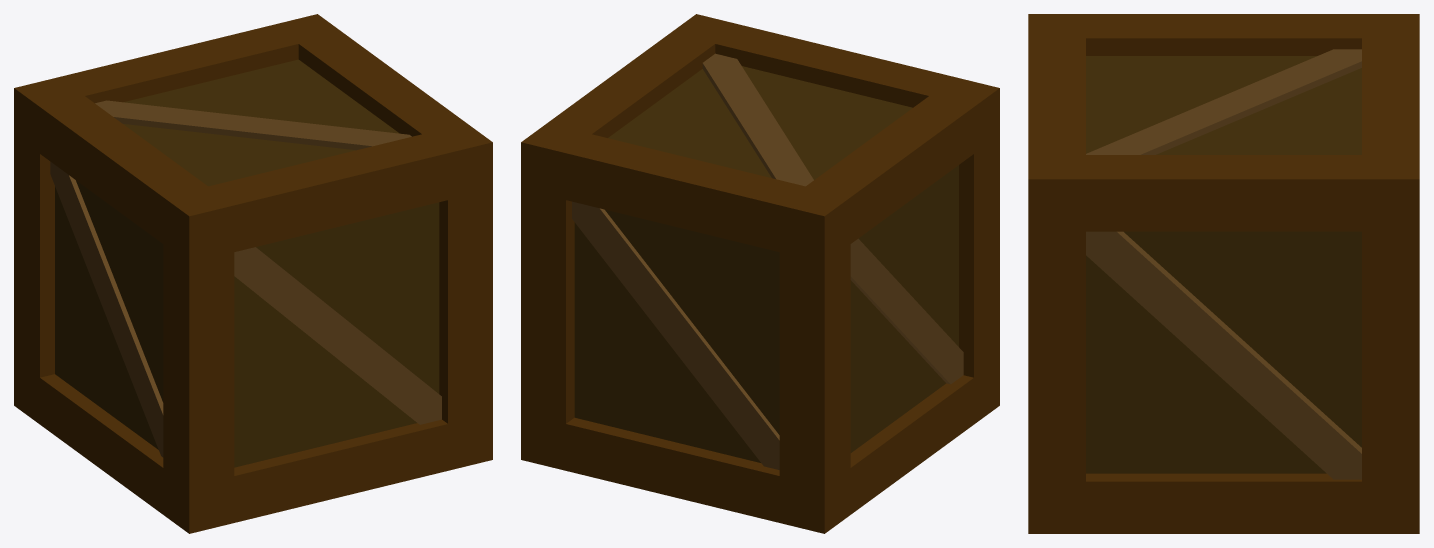
The model's file is 3D_WoodenCrate.FBX.
3 renders of one model, left to right at view 1: azimuth 30°, elevation 25°; view 2: azimuth 150°, elevation 25°; view 3: azimuth 270°, elevation 25°, orthographic. The views are drawn at different scales.
Visible parts, largest first — view 1: 3D_WoodenCrate; view 2: 3D_WoodenCrate; view 3: 3D_WoodenCrate.
Part boxes in pixels (x1,y1,x2,y2): 3D_WoodenCrate: (14,14,492,533); 3D_WoodenCrate: (521,14,999,533); 3D_WoodenCrate: (1028,14,1419,533).
Bounding box in the file's own units: 35.28 × 35.28 × 35.28.
